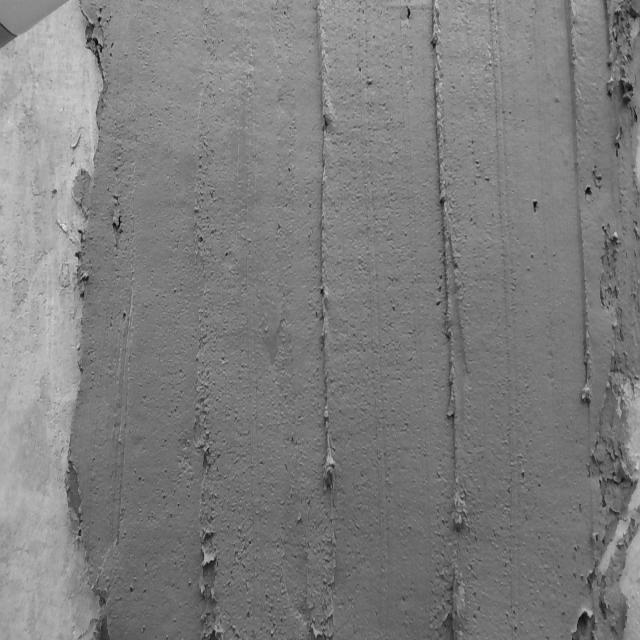trowels marks: (430, 4, 464, 636), (568, 1, 594, 448), (316, 12, 339, 514)
